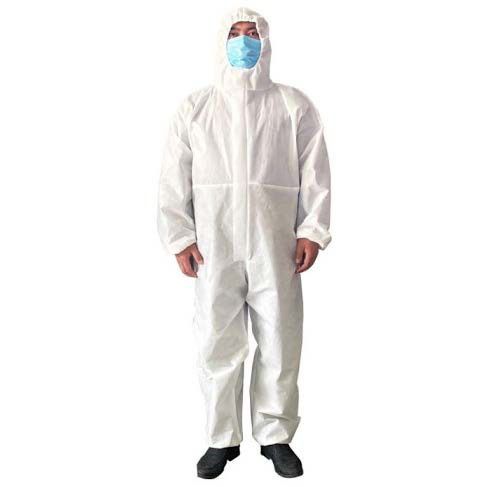Coverall: (156, 3, 331, 444)
with_mask: (226, 36, 262, 71)
